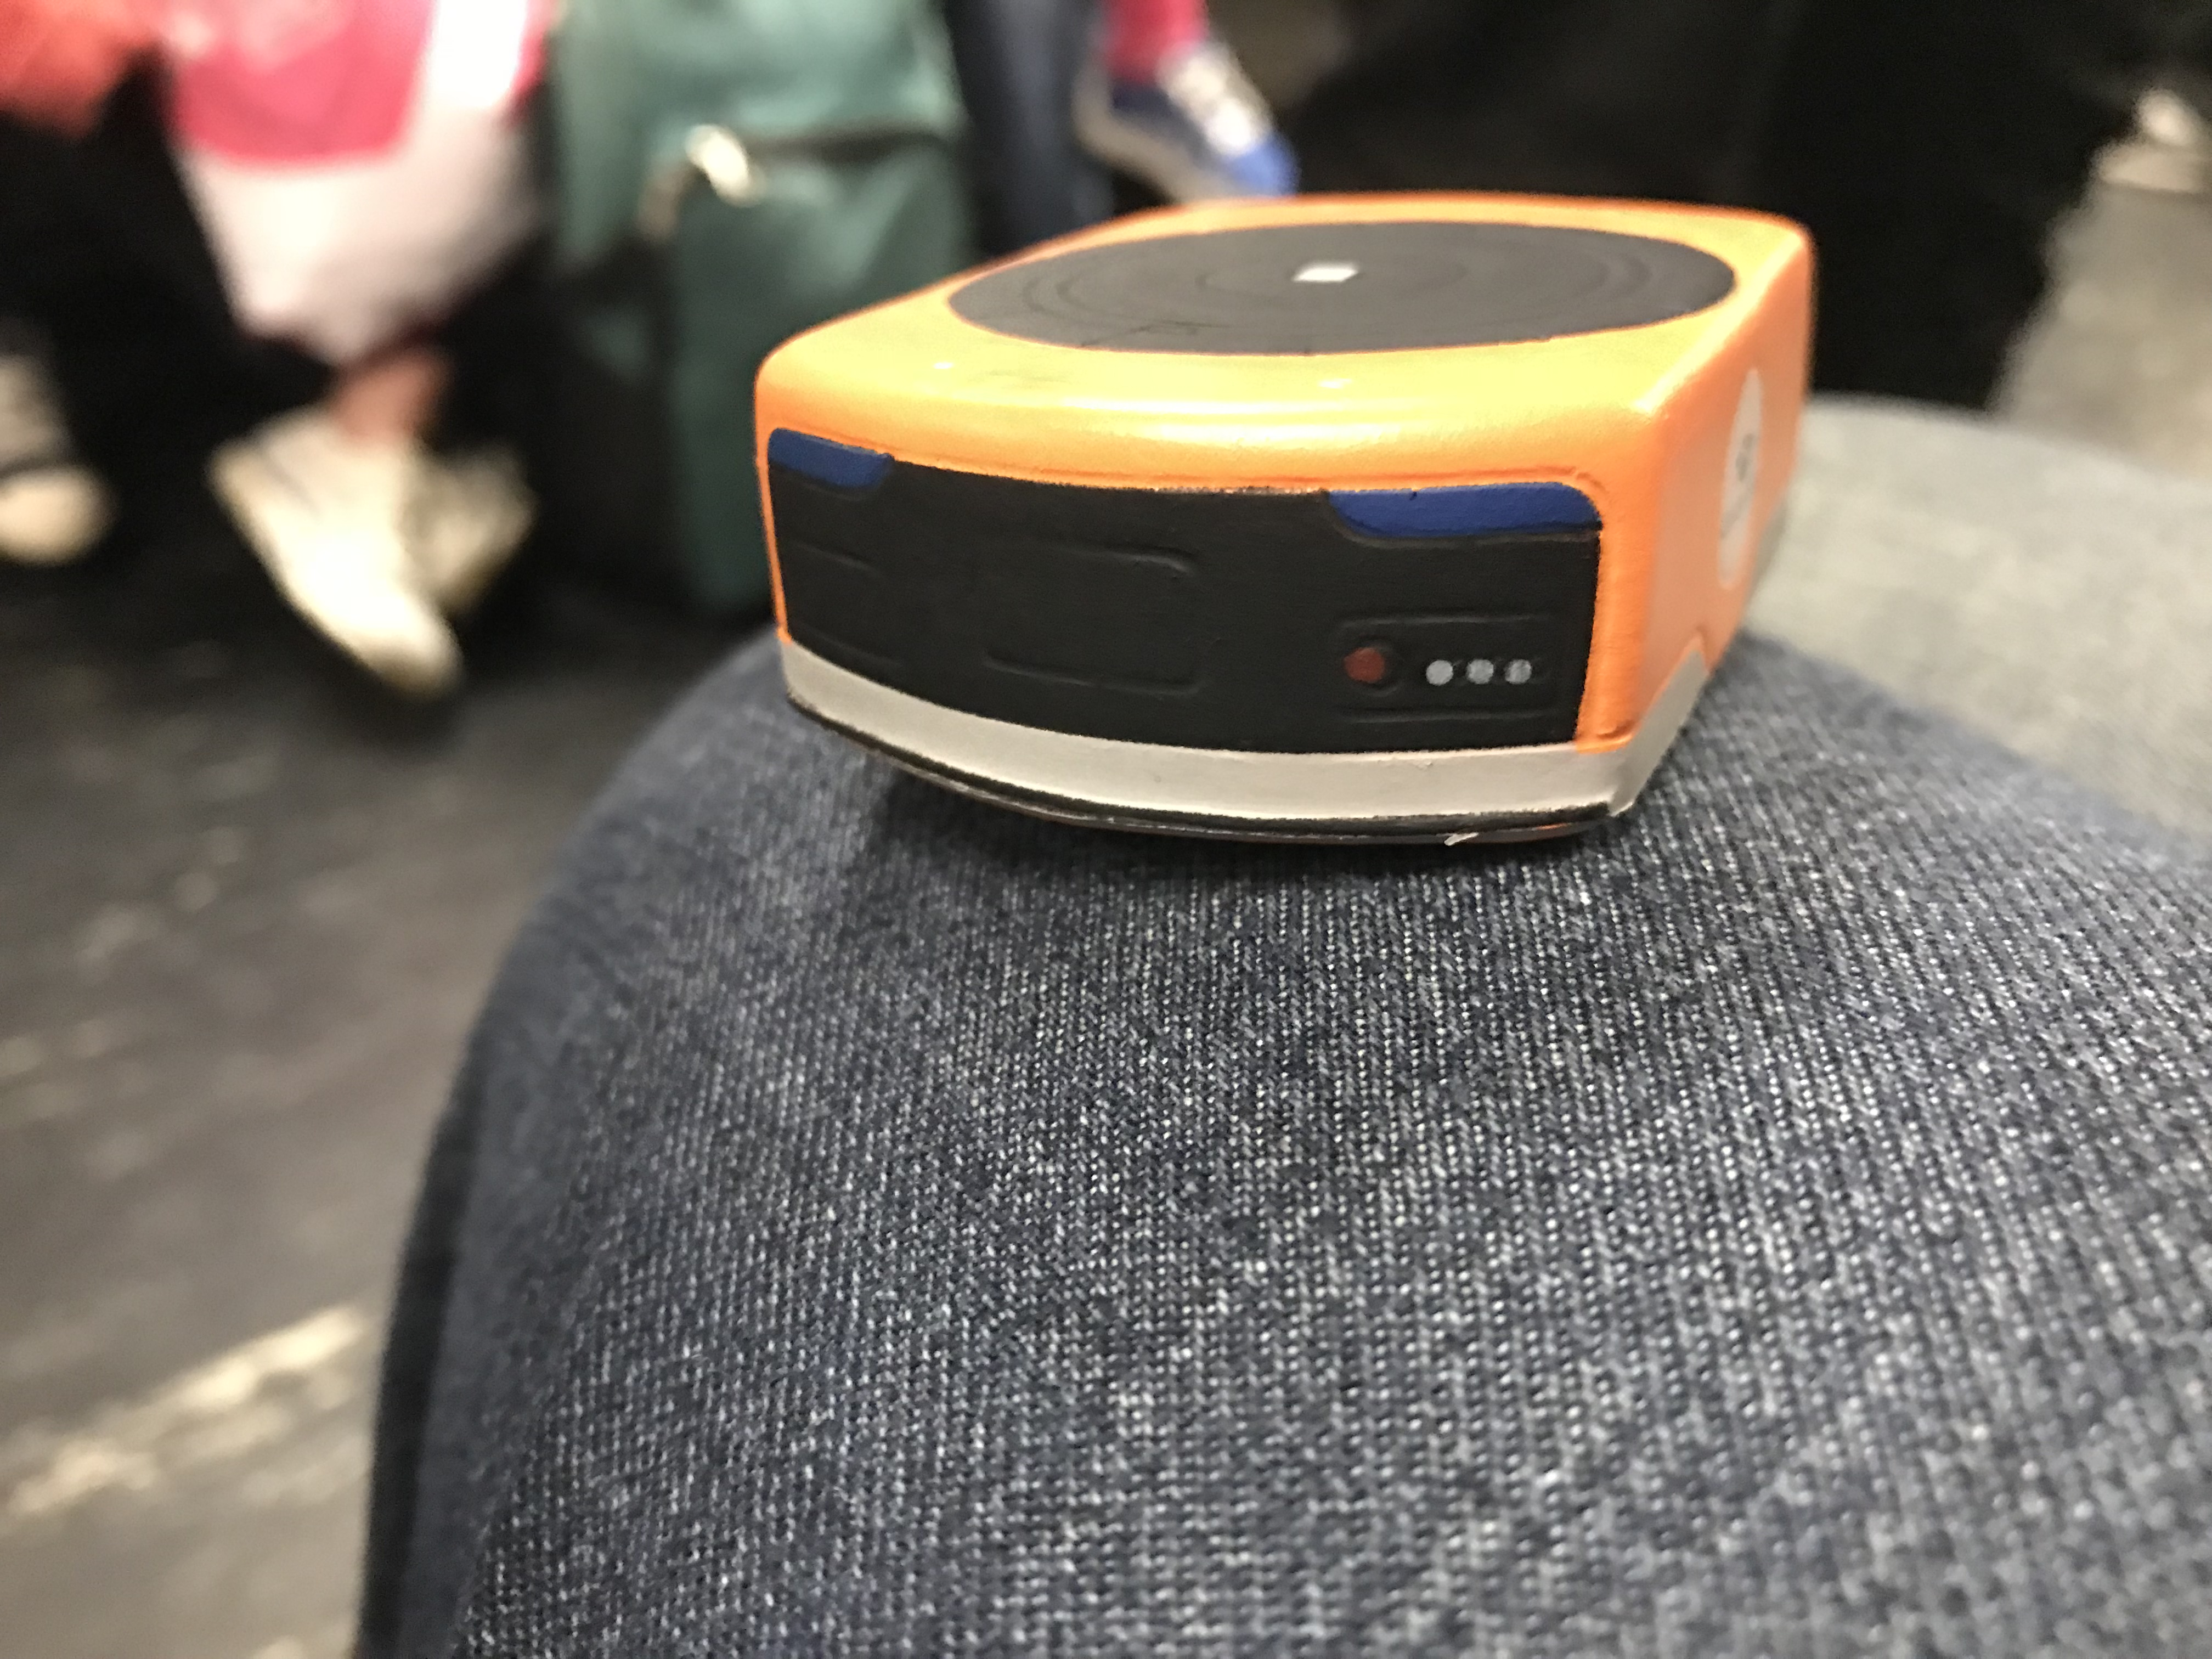amazon_bot: (721, 150, 1864, 880)
